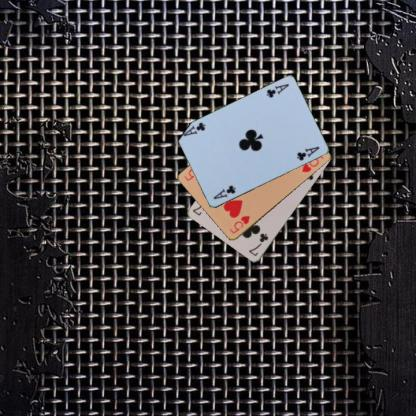5h: (227, 213, 251, 235)
7c: (246, 230, 270, 258)
Ac: (211, 182, 237, 200), (264, 82, 290, 100)
